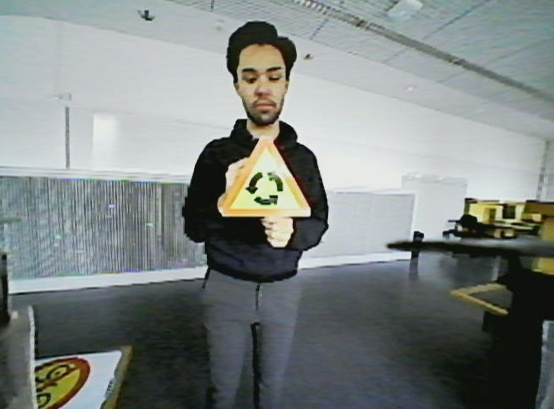roundabout_warning: (211, 129, 322, 224)
